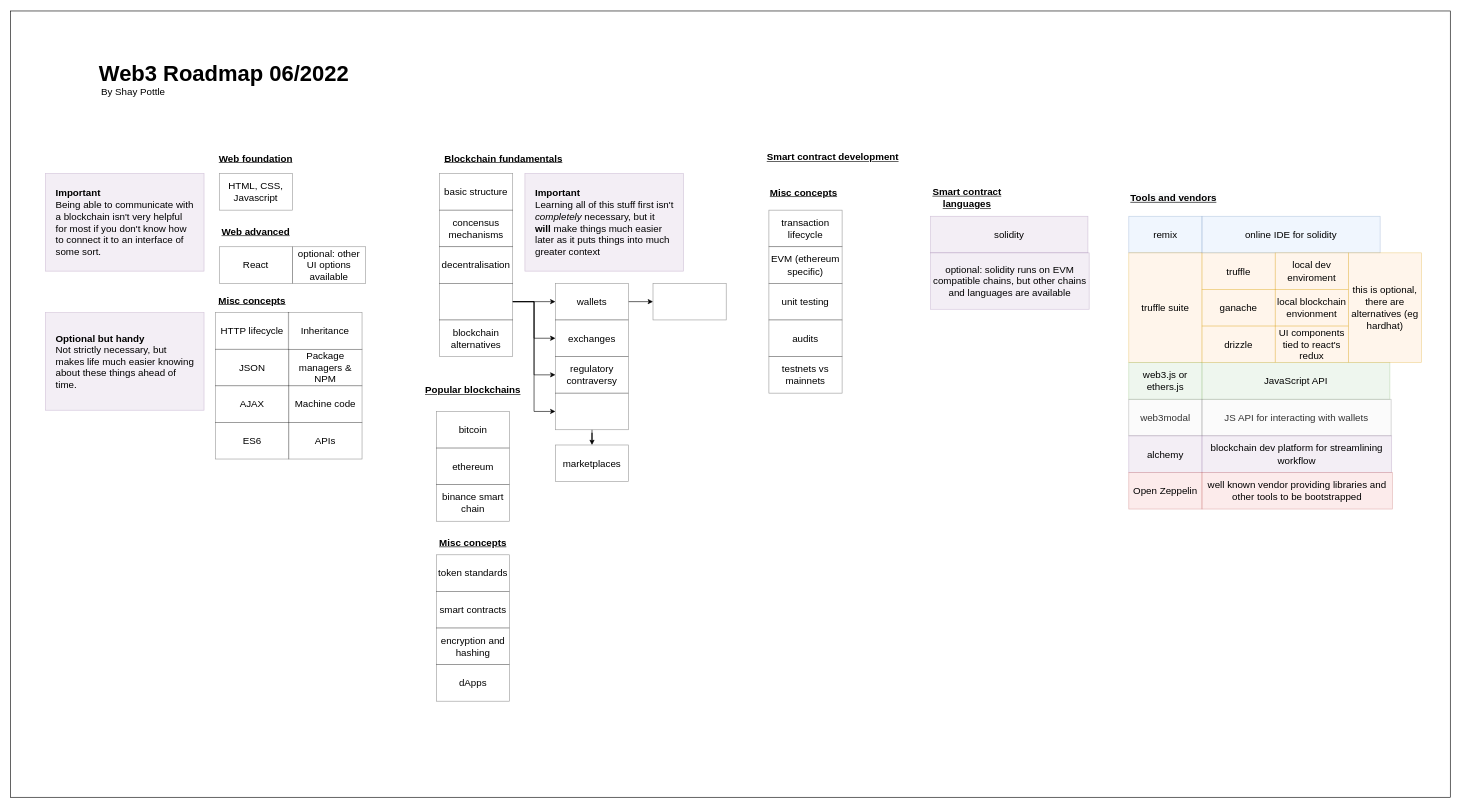
Some shapes in this 1461 by 808 pixel diagram are drawn without their labels. Each missing label, with the centre of its shape:
"crypto" goes at point (476, 301).
"MetaMask" goes at point (689, 301).
"NFTs" goes at point (592, 411).
